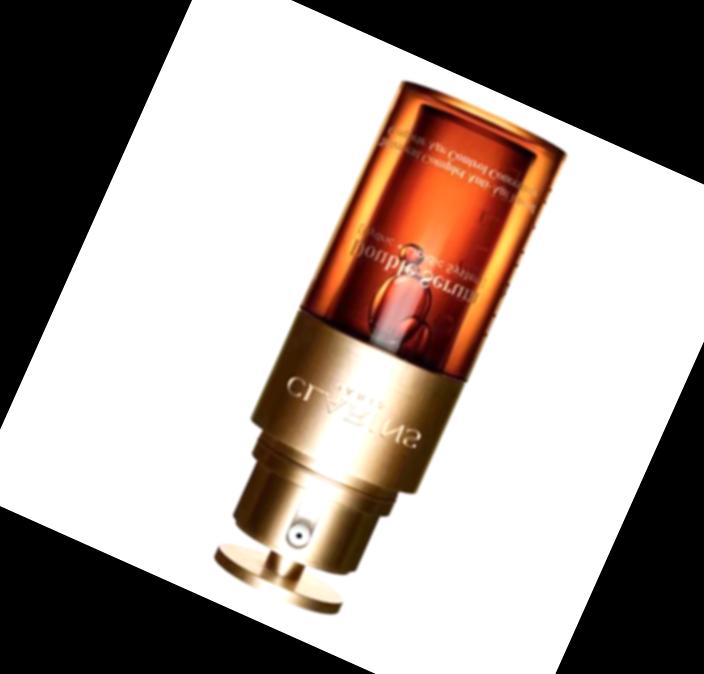cosmetic: (178, 76, 569, 640)
